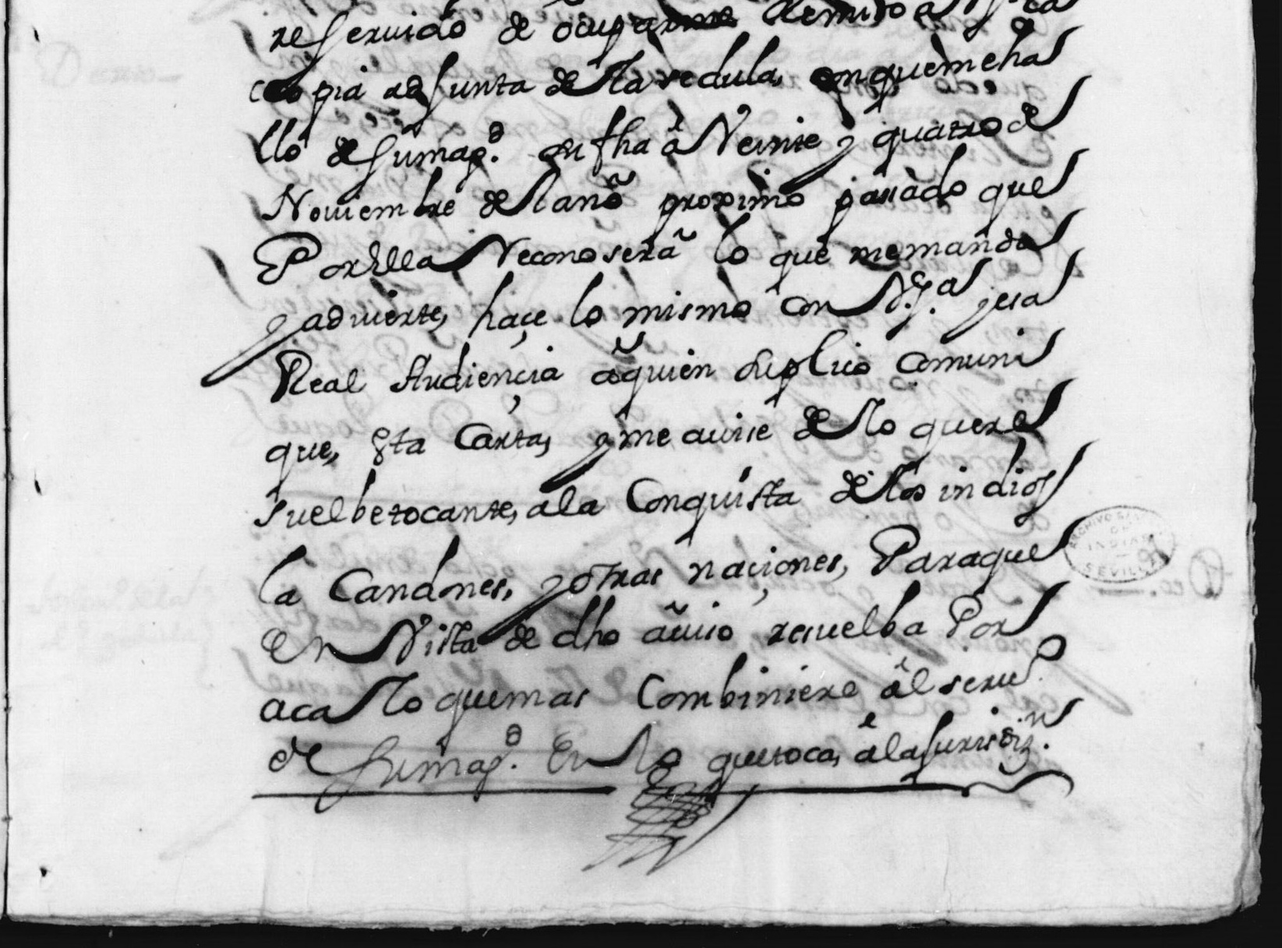lacandon: (258, 534, 507, 606)
